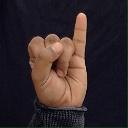hand: (27, 12, 87, 108)
